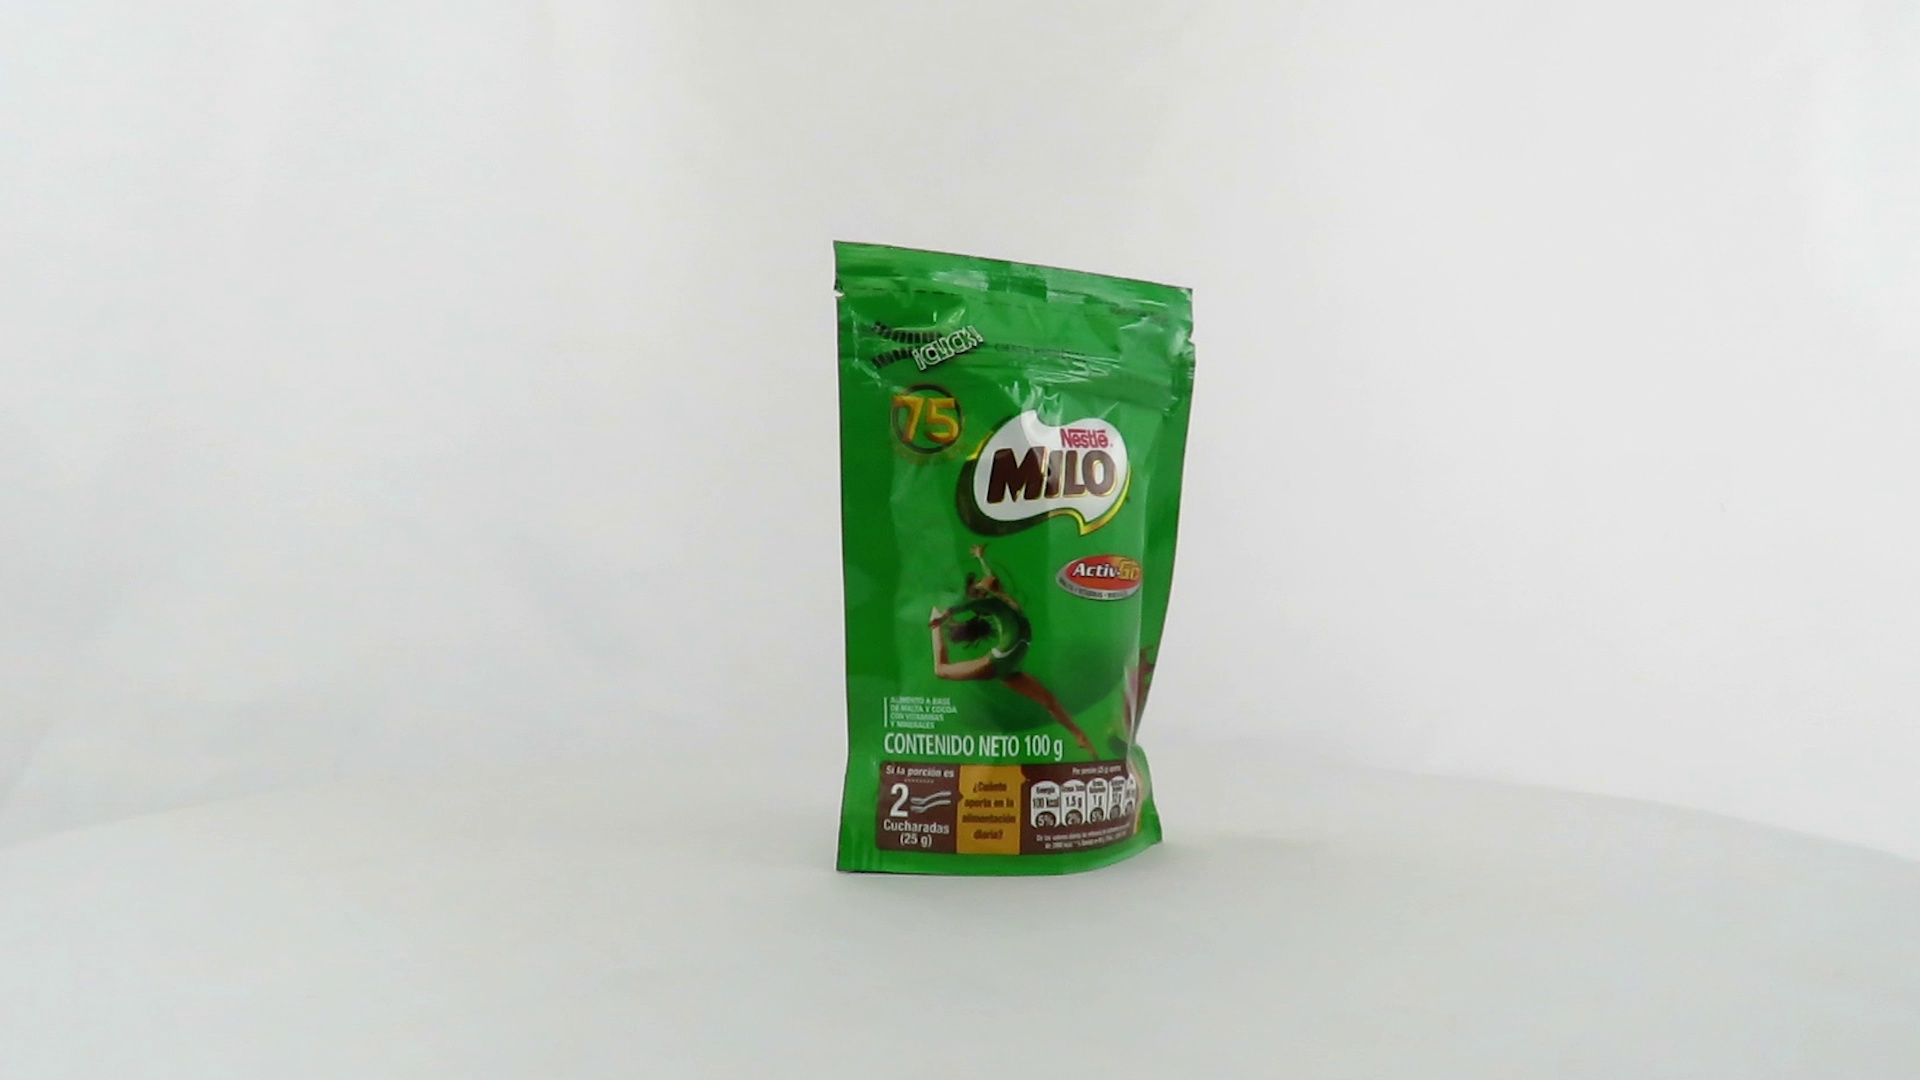COL0170203DYP10000: (828, 235, 1203, 884)
